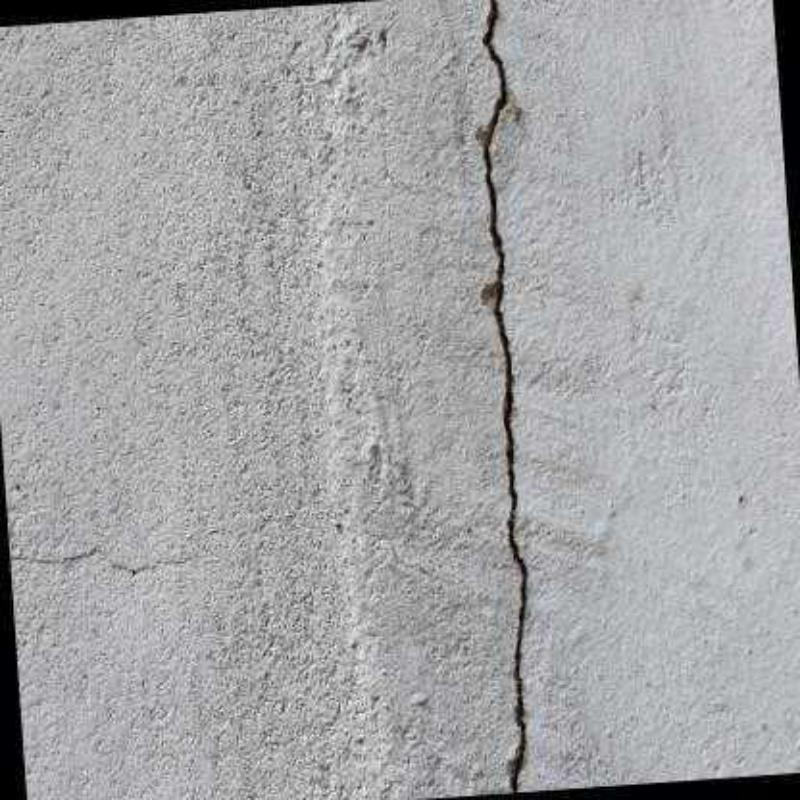pothole: (473, 0, 530, 793), (15, 550, 190, 575)
